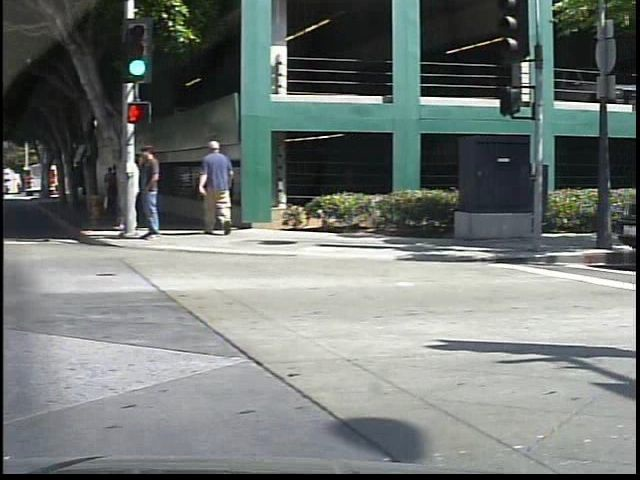person: (199, 136, 253, 236), (137, 140, 176, 246), (124, 146, 150, 231)
